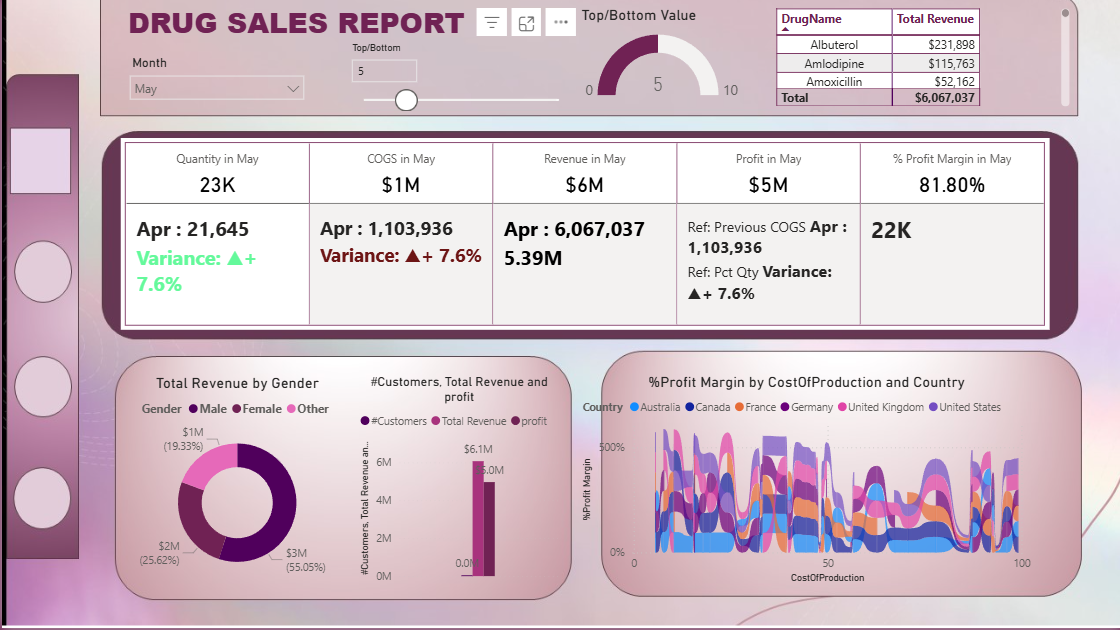

What the dashboard file says about the page in this screenshot:
{"tool":"powerbi","page":{"name":"Page 1","canvas":[1280,720],"ordinal":0},"visuals":[{"type":"cardVisual","fields":{"Data":["calculations.Quantity Sold","calculations.Total COGS","calculations.Total Revenue","calculations.profit","calculations.%Profit Margin"]},"box":[136.3,160.5,1061.7,219.6],"z":0},{"type":"slicer","fields":{"Values":["Calendar.Month"]},"box":[136.3,60.3,219.6,68.8],"z":1000},{"type":"slicer","fields":{"Values":["Top/Bottom.Top/Bottom"]},"box":[387.3,45.8,270.2,83.2],"z":2000},{"type":"gauge","fields":{"Y":["Top/Bottom Drugs.Top/Bottom Value"]},"box":[657.5,8.4,194.2,121.9],"z":3000},{"type":"tableEx","fields":{"Values":["DrugLookup.DrugName","calculations.Total Revenue"]},"box":[878.3,7.2,346.2,121.9],"z":4000},{"type":"textbox","box":[44.6,0,594.8,60.3],"z":5000},{"type":"clusteredColumnChart","fields":{"Y":["calculations.#Customers","calculations.Total Revenue","calculations.profit"]},"box":[404.2,429.5,236.5,244.9],"z":6000},{"type":"donutChart","fields":{"Y":["calculations.Total Revenue"],"Category":["CustomerTable.Gender"]},"box":[136.3,429.5,266.6,244.9],"z":7000},{"type":"ribbonChart","fields":{"Category":["DrugLookup.CostOfProduction"],"Series":["CustomerTable.Country"],"Y":["calculations.%Profit Margin"]},"box":[658.1,429,522.6,245.2],"z":8000}]}

Visuals, with their boxes in screenshot pixels (x1, y1, x2, y2), scaled from the page's 1280x720 canvas onto the 1120x630 screenshot:
cardVisual - calculations.Quantity Sold x calculations.Total COGS: (119,140,1048,333)
slicer - Calendar.Month: (119,53,311,113)
slicer - Top/Bottom.Top/Bottom: (339,40,575,113)
gauge - Top/Bottom Drugs.Top/Bottom Value: (575,7,745,114)
tableEx - DrugLookup.DrugName x calculations.Total Revenue: (769,6,1071,113)
textbox: (39,0,559,53)
clusteredColumnChart - calculations.#Customers x calculations.Total Revenue: (354,376,561,590)
donutChart - calculations.Total Revenue x CustomerTable.Gender: (119,376,353,590)
ribbonChart - DrugLookup.CostOfProduction x CustomerTable.Country: (576,375,1033,590)
